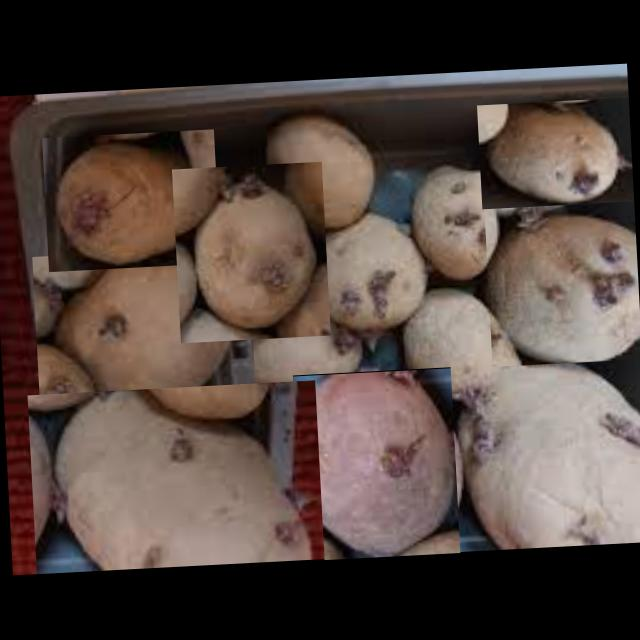Sprouted potato: (28, 380, 324, 575), (32, 246, 257, 427), (464, 350, 640, 549), (292, 367, 460, 561), (172, 162, 331, 344), (484, 201, 640, 367), (42, 129, 221, 272), (402, 280, 526, 471), (296, 220, 431, 370), (477, 98, 634, 210), (260, 103, 378, 237), (401, 164, 531, 284)
